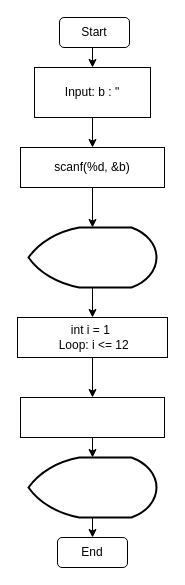
This 185x585 diagram has some shape labels left out. The box of each missing label's shape, as (x1, y1, x2, y2) in pixels:
Increment i (i = i + 1): (20, 396, 164, 438)
Input Number :: (27, 226, 157, 288)
Print: b x i = b*i: (27, 456, 157, 518)
